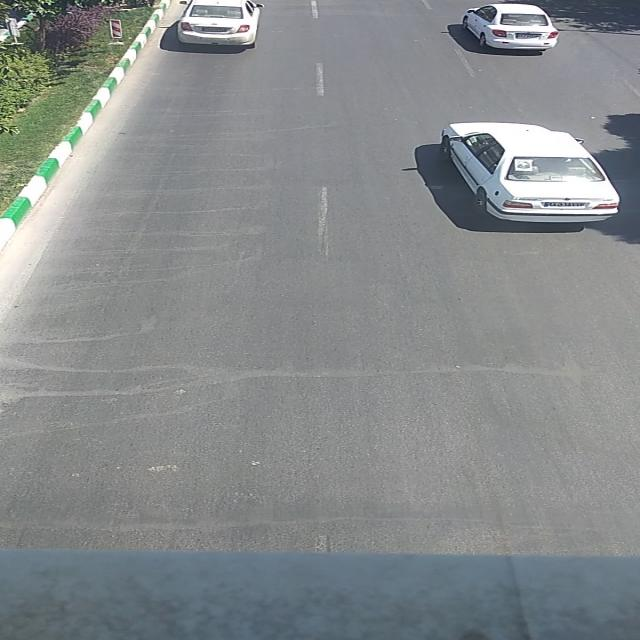car: (438, 120, 620, 224), (463, 5, 557, 50), (174, 1, 265, 46)
